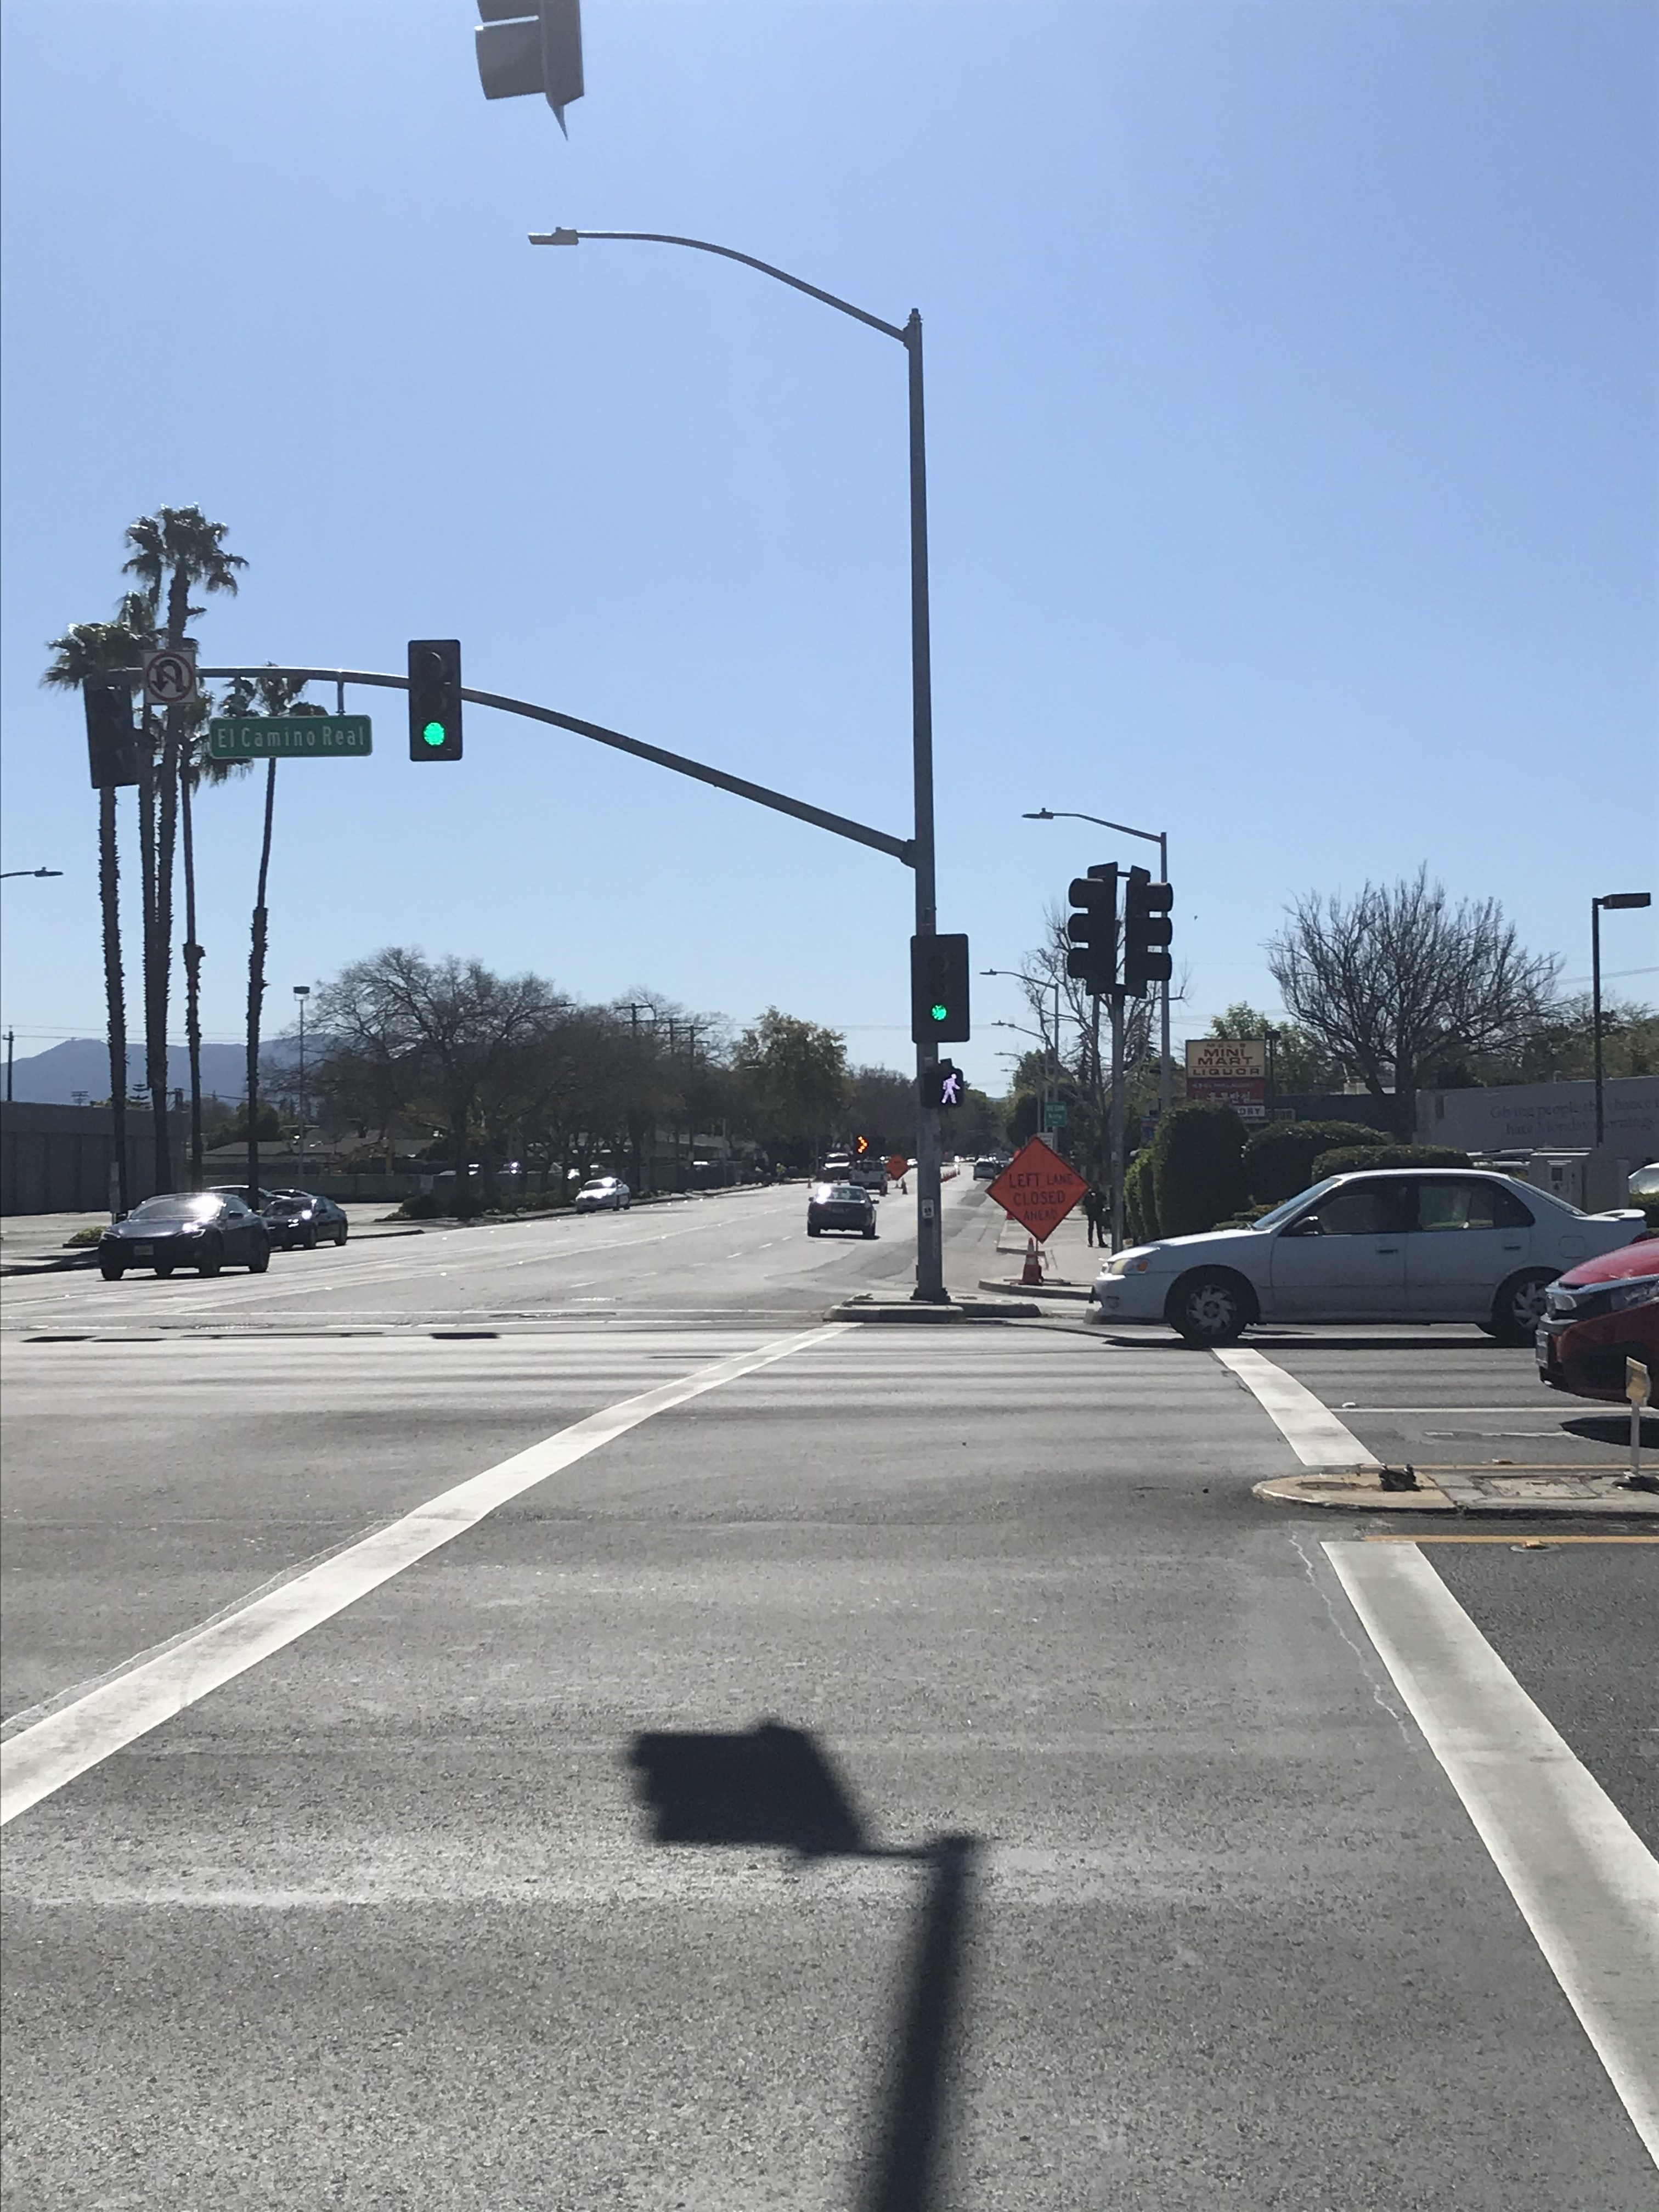green_light: (410, 636, 458, 756), (913, 941, 962, 1040)
